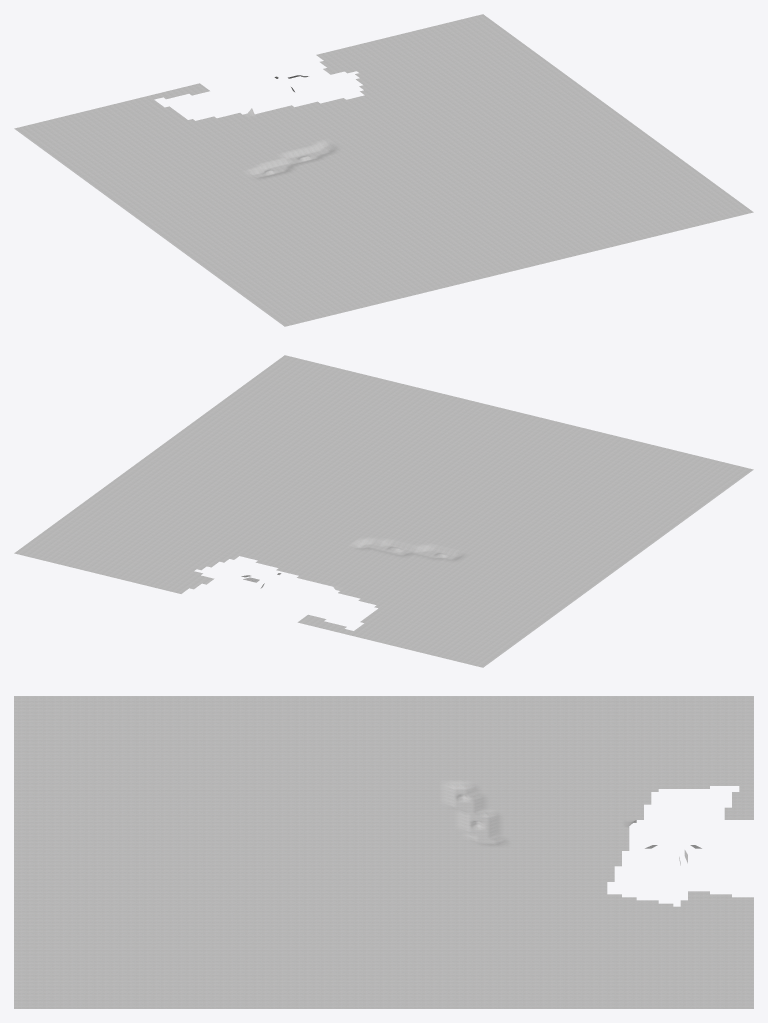
Rendered from grass.obj.
3 renders of one model, top to bottom at view 1: azimuth 30°, elevation 25°; view 2: azimuth 150°, elevation 25°; view 3: azimuth 270°, elevation 25°, orthographic. The views are drawn at different scales.
Parts seen in each view (by area): view 1: Plane; view 2: Plane; view 3: Plane.
Part boxes in pixels (x1=…): Plane: x1=14, y1=14, x2=753, y2=326; Plane: x1=14, y1=355, x2=753, y2=667; Plane: x1=14, y1=696, x2=753, y2=1008.
Size of the model in its own units: 440 by 9.87 by 440.
1 material, 1 textured.
